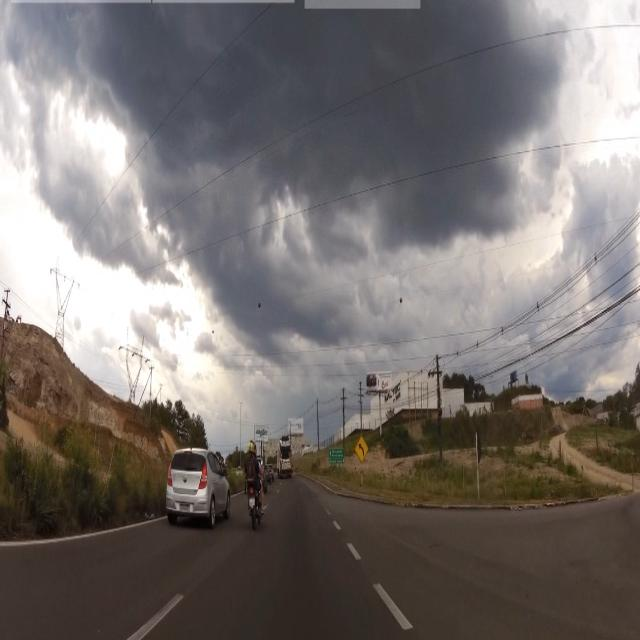A-2a: (355, 436, 368, 465)
